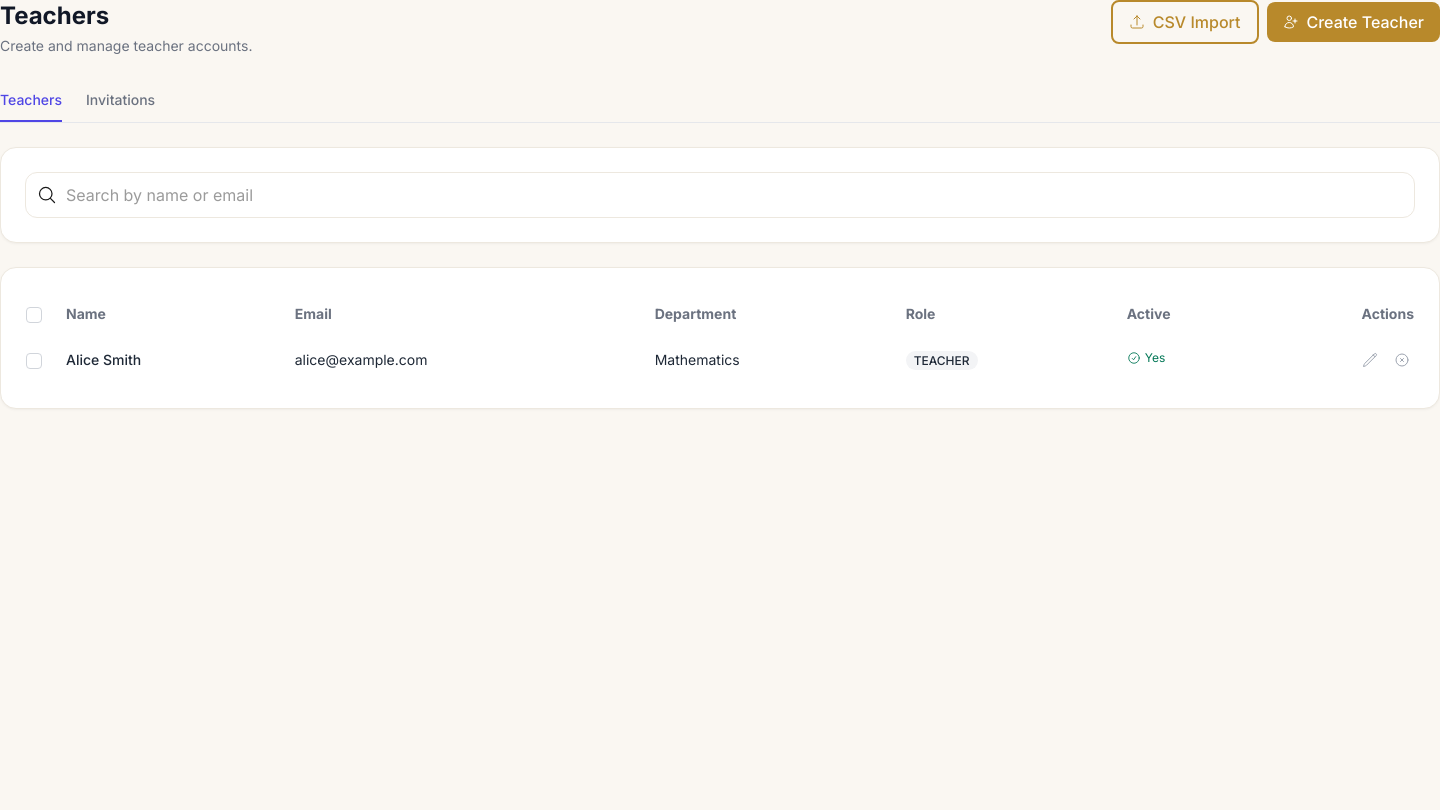
Test case: TeachersPage › invite form › successful invite shows toast and closes modal
This screenshot has width=1440, height=810.
Click the button "Invitations" at (121,101), box [86,80,155,122]
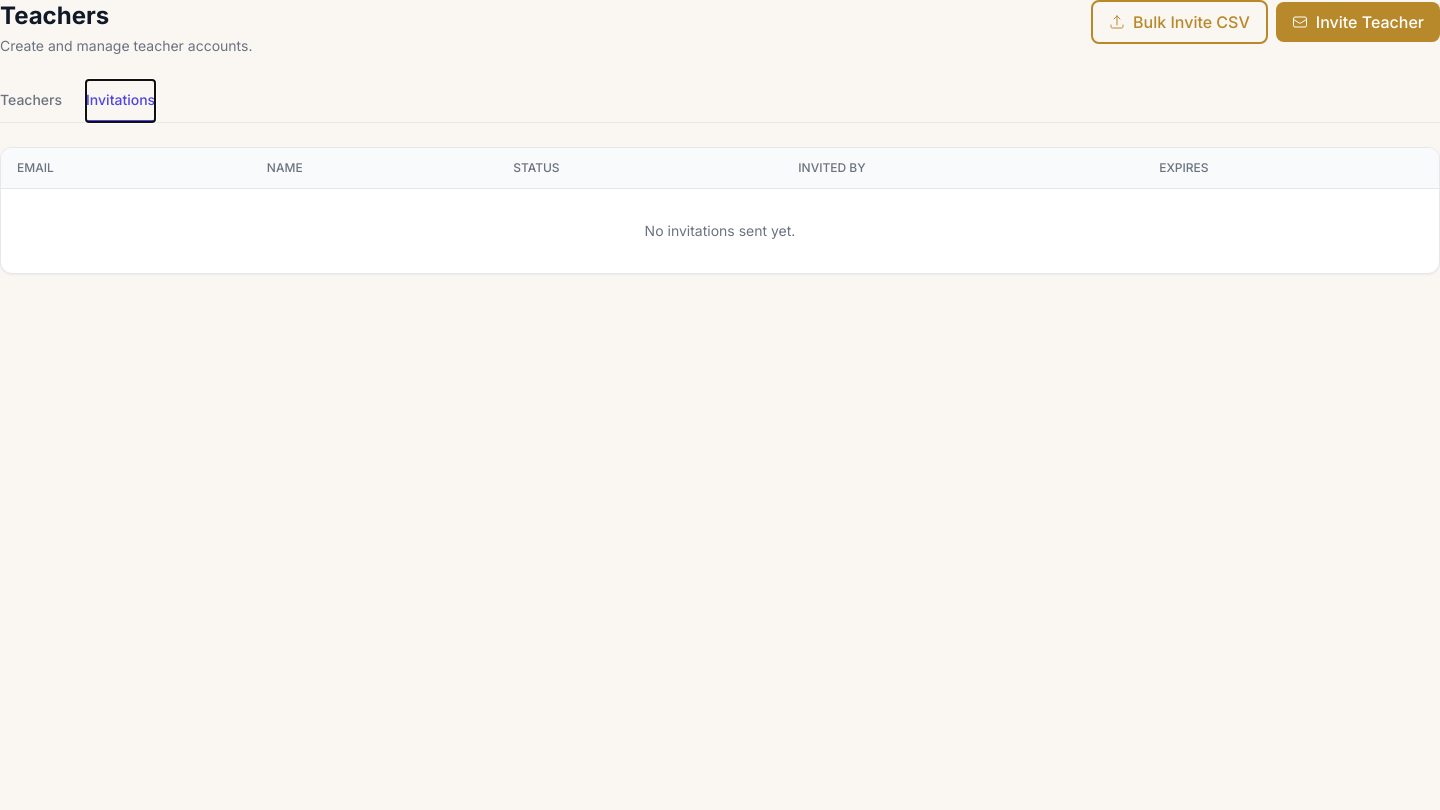
Check: the text "No invitations sent yet." is shown, box [1,188,1439,273]
Click the button "Invite Teacher" at (1358,22), box [1276,2,1439,42]
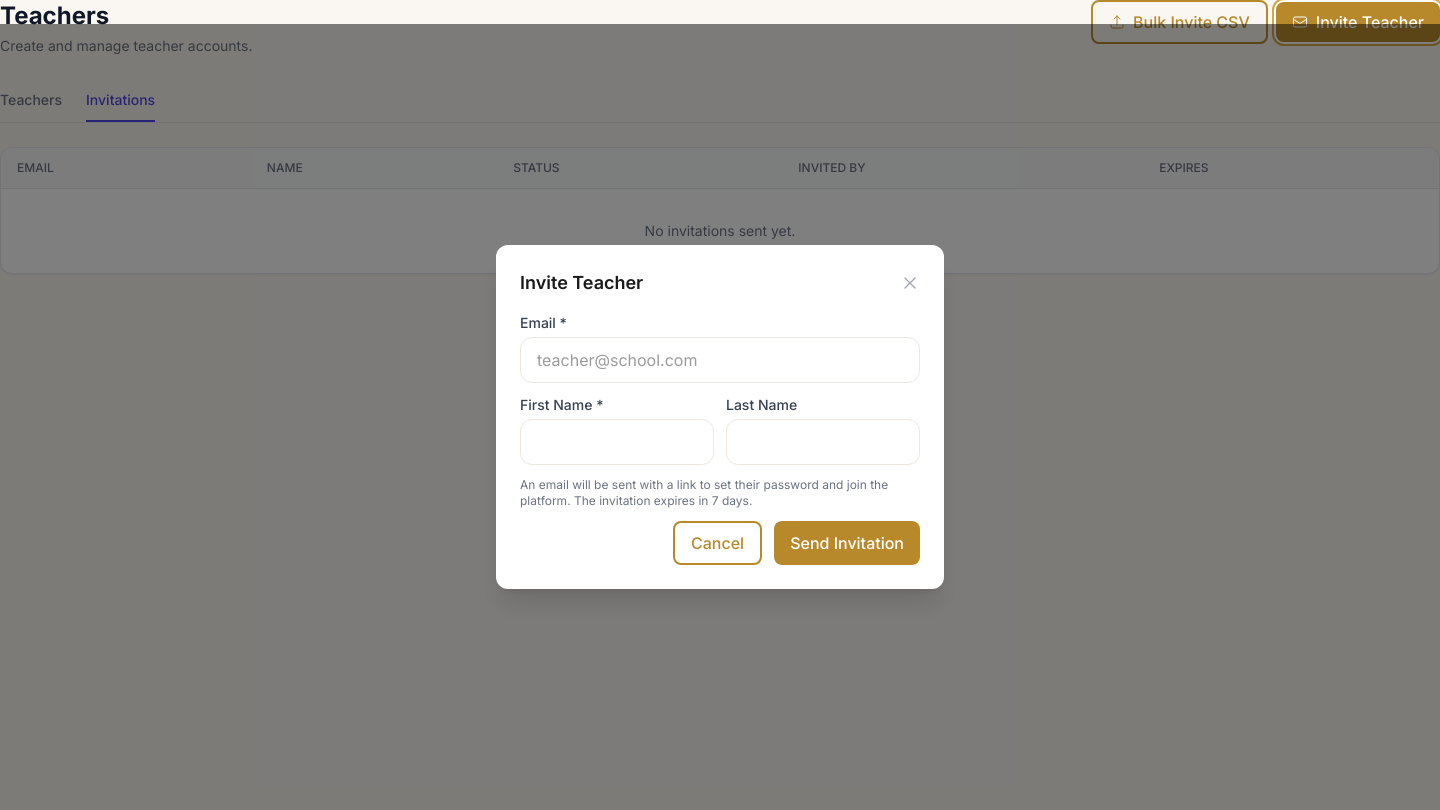
Check: the text "invitation expires in 7 days" is shown, box [520,477,888,508]
Type "jane@school.com" into the field labelled "Email *" at (720,360), box [520,337,920,383]
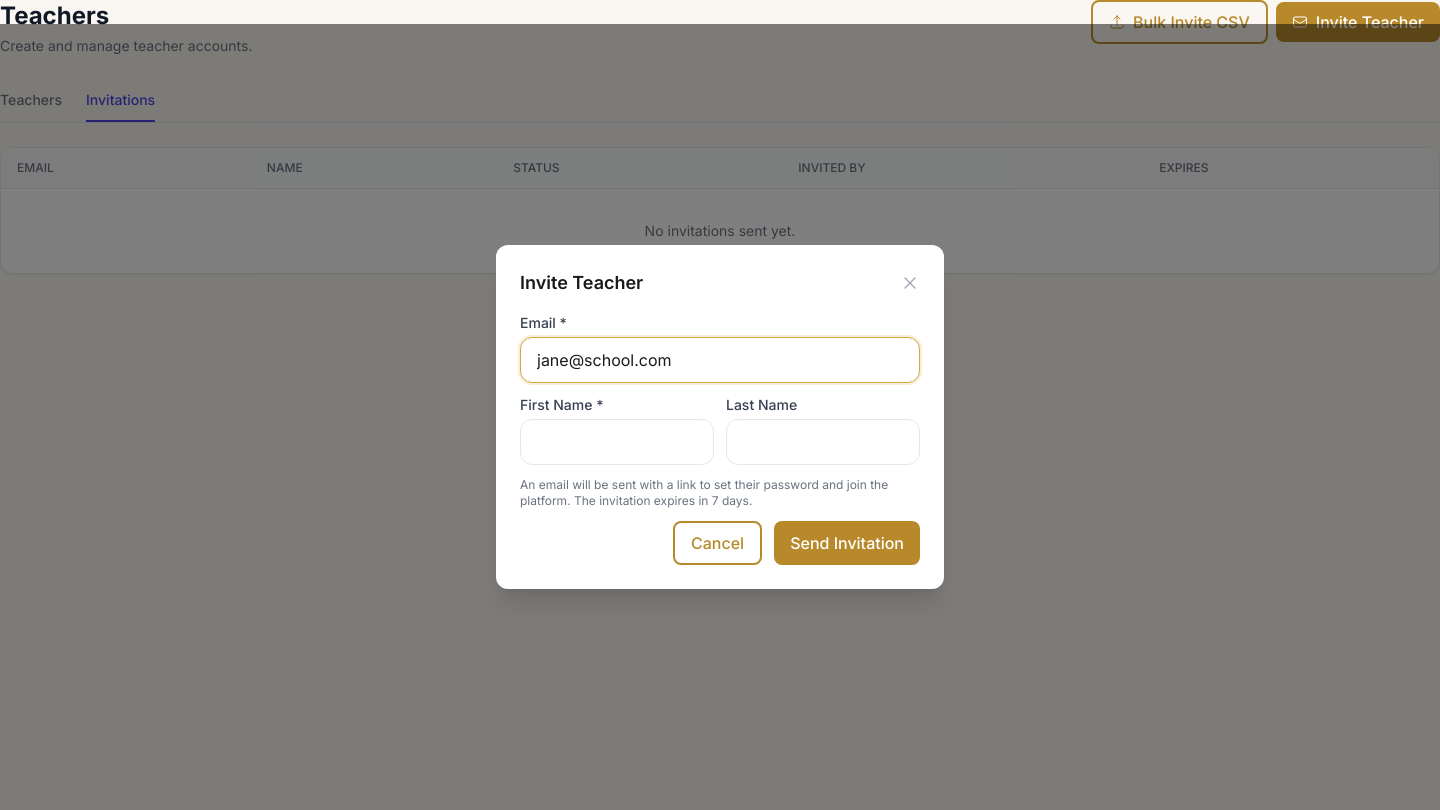
Type "Jane" into the field labelled "First Name *" at (617,442), box [520,419,714,465]
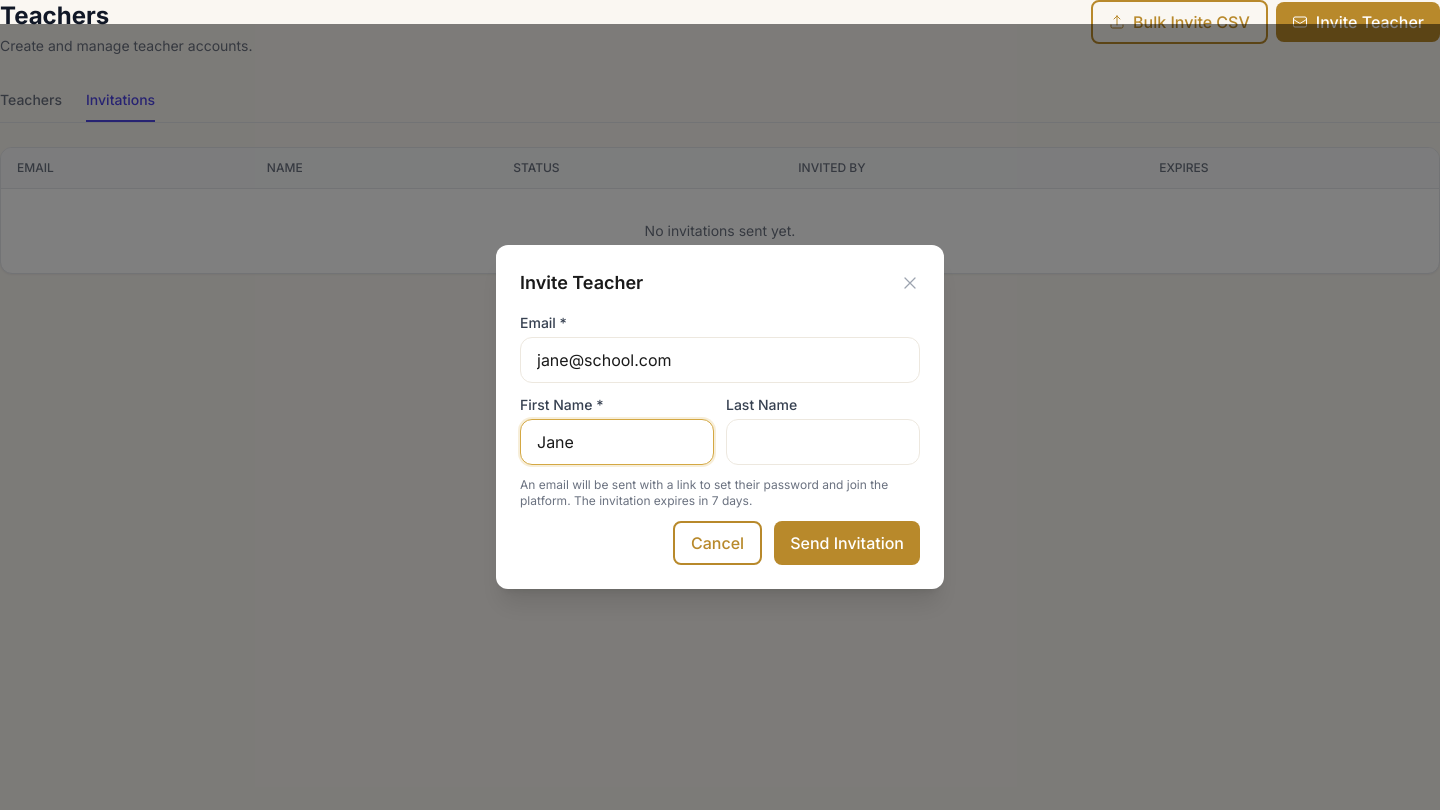
Click the button "Send Invitation" at (847,543), box [774,521,920,565]
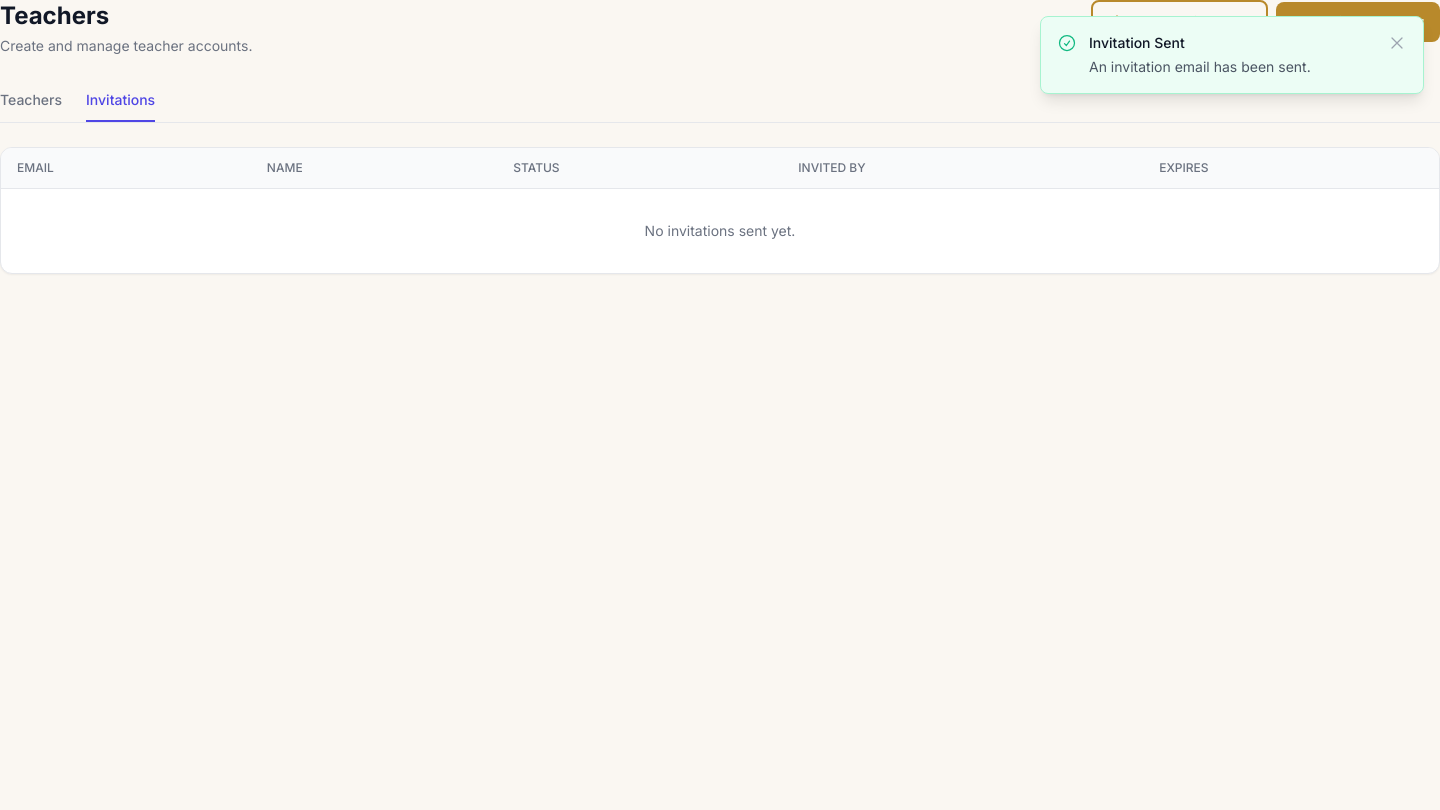
Check: the text "Invitation Sent" is shown, box [1089,34,1185,51]
Check: the button "Send Invitation" is gone
